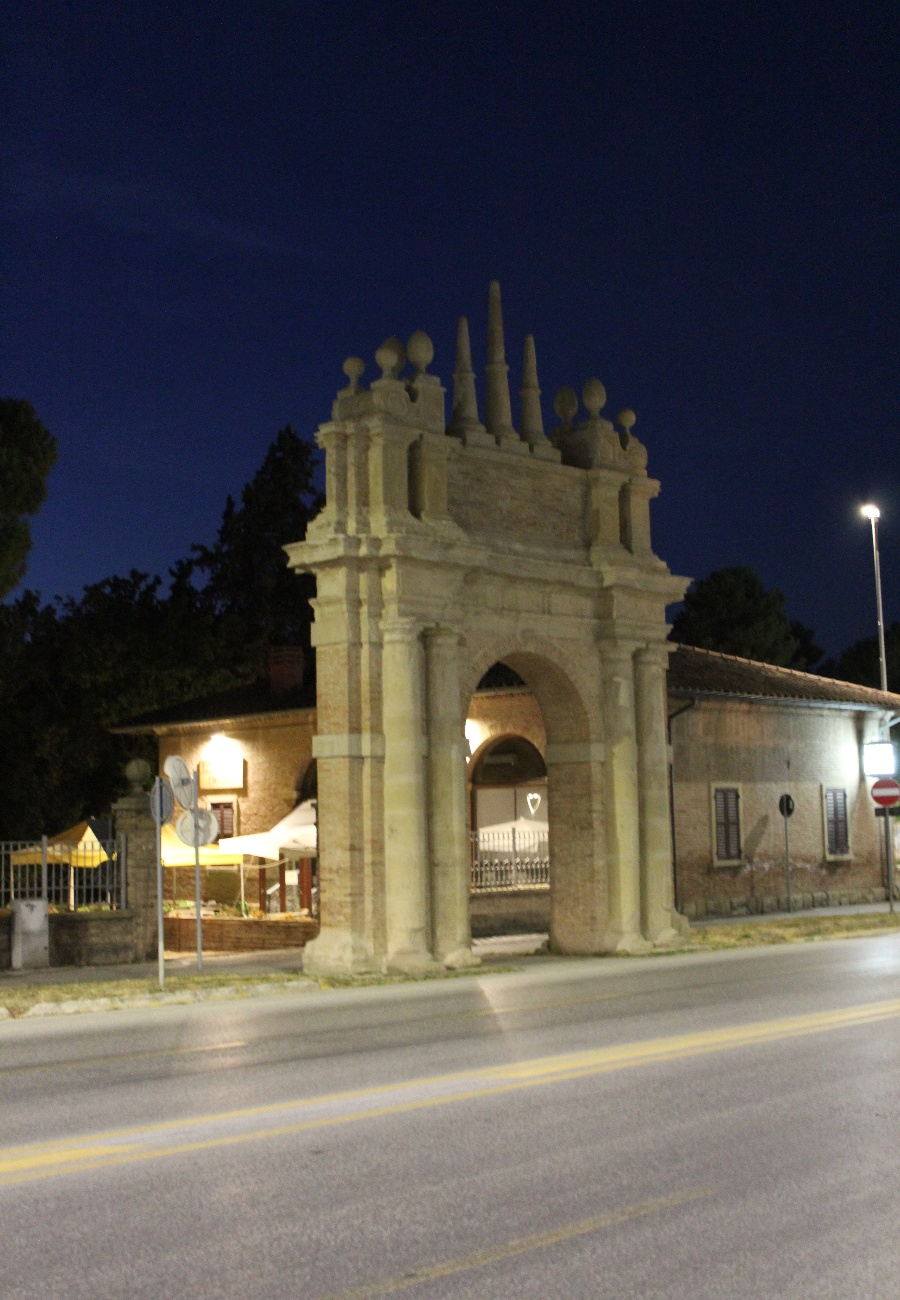Arco di Trionfo: (285, 273, 696, 996)
